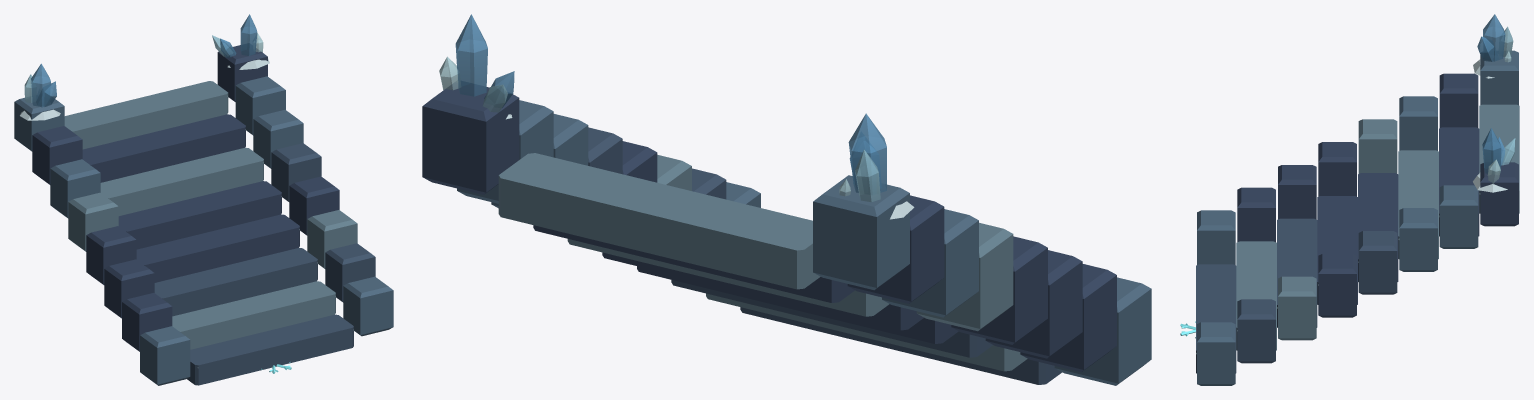
Rendered from stairs_up.fbx.
3 renders of one model, left to right at view 1: azimuth 30°, elevation 25°; view 2: azimuth 150°, elevation 25°; view 3: azimuth 270°, elevation 25°, orthographic. The views are drawn at different scales.
Visible parts, largest first — view 1: stairs_up; view 2: stairs_up; view 3: stairs_up.
Part boxes in pixels (x1,y1,x2,y2): stairs_up: (14, 14, 393, 385); stairs_up: (422, 14, 1151, 385); stairs_up: (1180, 14, 1519, 385).
Bounding box in the file's own units: 3.56 × 3.21 × 3.78.
